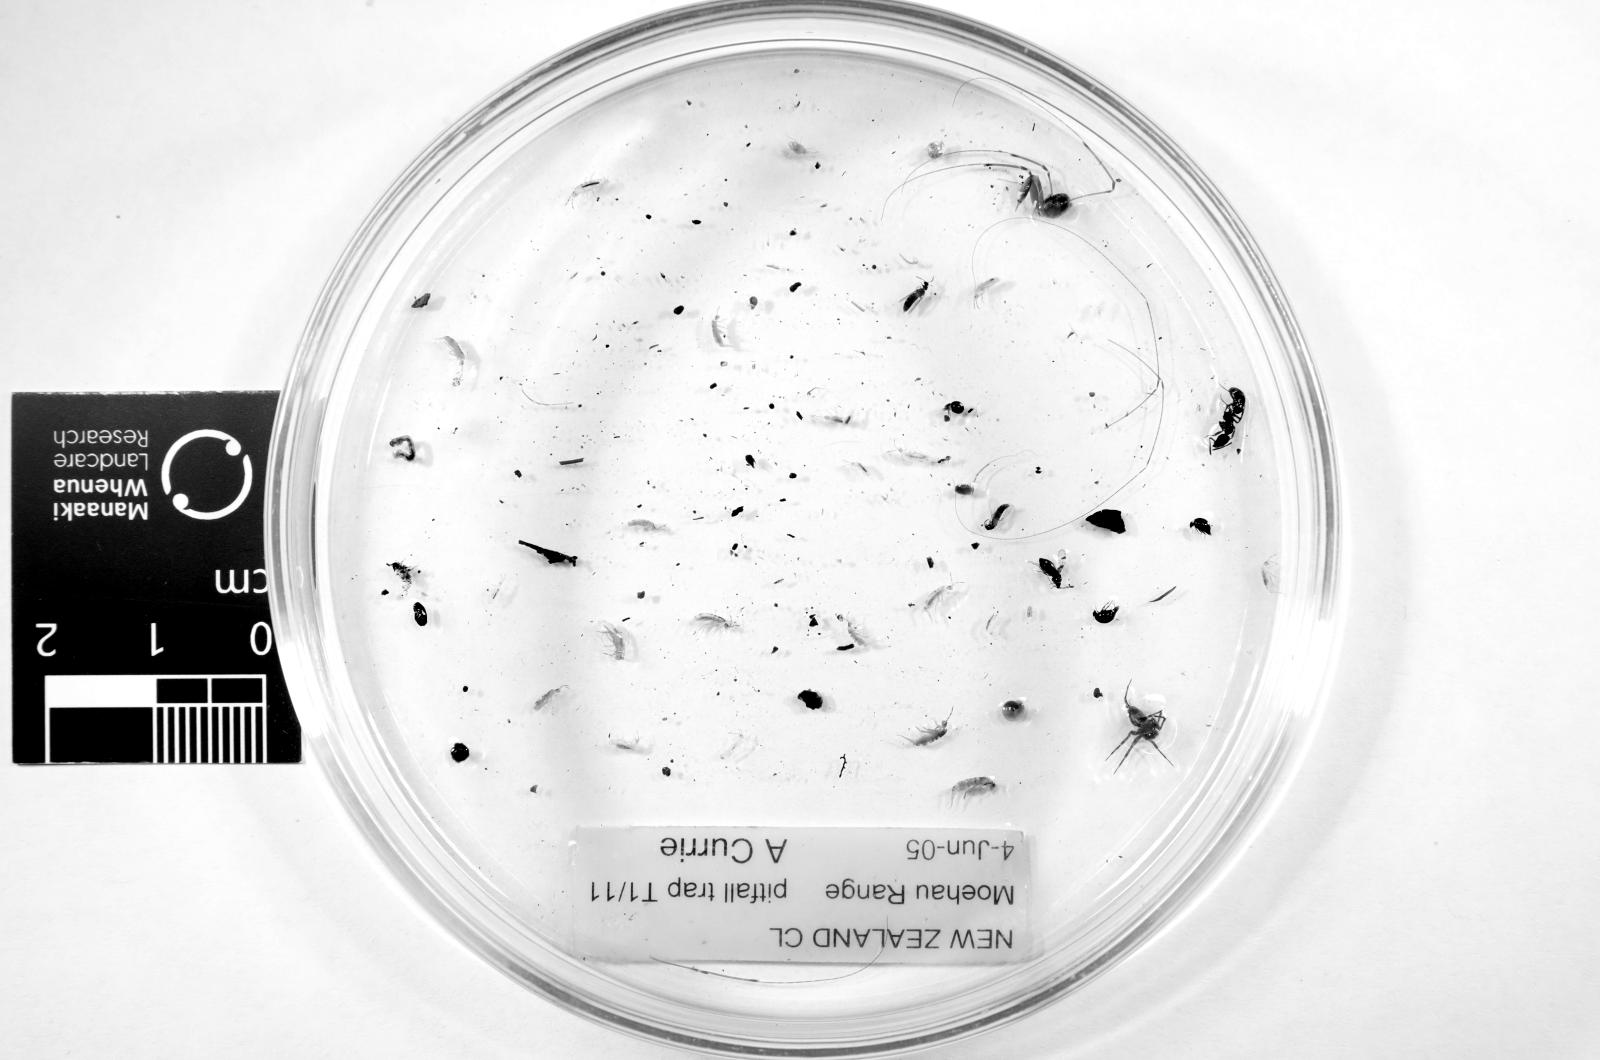acari: (789, 141, 816, 155), (944, 401, 965, 415)
araneae: (1113, 690, 1173, 773), (1122, 749, 1132, 764)
coleoptera: (901, 282, 929, 312), (983, 504, 1010, 531), (1093, 599, 1119, 623), (1190, 518, 1212, 535)
collembola: (597, 620, 637, 660), (905, 718, 948, 745), (951, 776, 997, 801), (922, 584, 953, 615), (896, 448, 951, 465), (847, 620, 877, 647), (571, 179, 609, 199), (533, 686, 563, 711), (1261, 557, 1280, 594), (974, 277, 1000, 302), (442, 336, 465, 364), (694, 613, 734, 628), (608, 736, 641, 751), (712, 316, 728, 347), (822, 412, 853, 425)
diptera: (1037, 550, 1065, 589)
formicidae: (1209, 387, 1245, 453)
gastropoda: (1000, 700, 1026, 720)
opiliones: (940, 150, 1120, 218)
